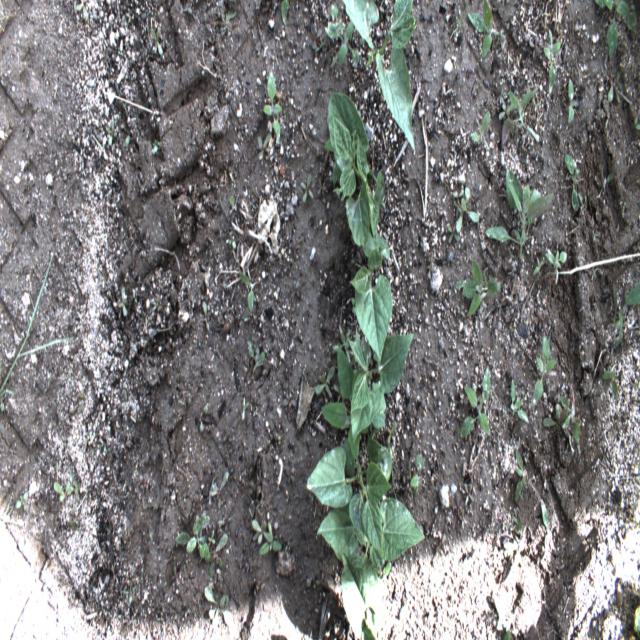crop: (342, 0, 416, 152), (307, 439, 392, 555), (327, 92, 385, 246), (317, 494, 425, 574), (347, 325, 414, 447), (349, 217, 393, 361), (341, 551, 386, 639)
weed: (0, 251, 70, 414), (484, 165, 555, 261), (321, 348, 369, 486), (453, 258, 502, 318), (594, 0, 636, 62), (500, 90, 540, 150), (459, 365, 491, 438), (467, 0, 506, 59), (324, 4, 358, 68), (530, 335, 557, 408), (175, 510, 210, 562), (262, 69, 283, 144), (204, 585, 233, 632), (504, 512, 527, 571), (542, 30, 562, 94), (453, 186, 480, 232), (559, 396, 580, 444), (206, 535, 228, 580), (493, 594, 515, 639), (565, 151, 580, 213), (510, 378, 529, 426), (471, 109, 492, 151), (512, 446, 527, 503), (612, 282, 624, 350), (542, 403, 569, 433), (313, 364, 336, 399), (332, 323, 351, 365), (239, 272, 259, 311), (449, 1, 469, 40), (546, 246, 567, 283), (258, 522, 282, 554), (209, 471, 230, 507), (408, 453, 425, 497), (602, 361, 620, 401), (248, 340, 266, 374), (252, 518, 273, 546), (568, 76, 579, 124), (607, 72, 623, 104), (69, 391, 86, 417), (54, 480, 74, 502), (307, 21, 322, 50), (300, 173, 314, 204), (258, 132, 273, 160), (104, 117, 118, 146), (150, 26, 163, 56), (624, 283, 640, 306), (446, 221, 461, 244), (532, 256, 549, 276), (74, 0, 90, 21), (425, 252, 437, 280), (528, 35, 541, 60), (498, 102, 516, 120), (540, 497, 550, 529), (435, 527, 446, 555), (386, 420, 397, 446), (16, 490, 28, 513), (120, 123, 131, 148), (69, 467, 78, 495), (228, 193, 240, 214), (604, 172, 618, 190), (332, 161, 341, 187), (537, 309, 548, 330), (464, 482, 474, 505), (282, 0, 291, 23), (282, 396, 298, 408), (633, 606, 639, 638), (317, 178, 327, 197), (242, 396, 250, 419), (151, 138, 161, 156), (333, 382, 342, 400), (229, 230, 236, 252), (456, 305, 466, 318), (324, 138, 333, 152), (208, 528, 215, 546), (631, 117, 640, 130), (382, 564, 391, 576), (352, 297, 356, 312)
